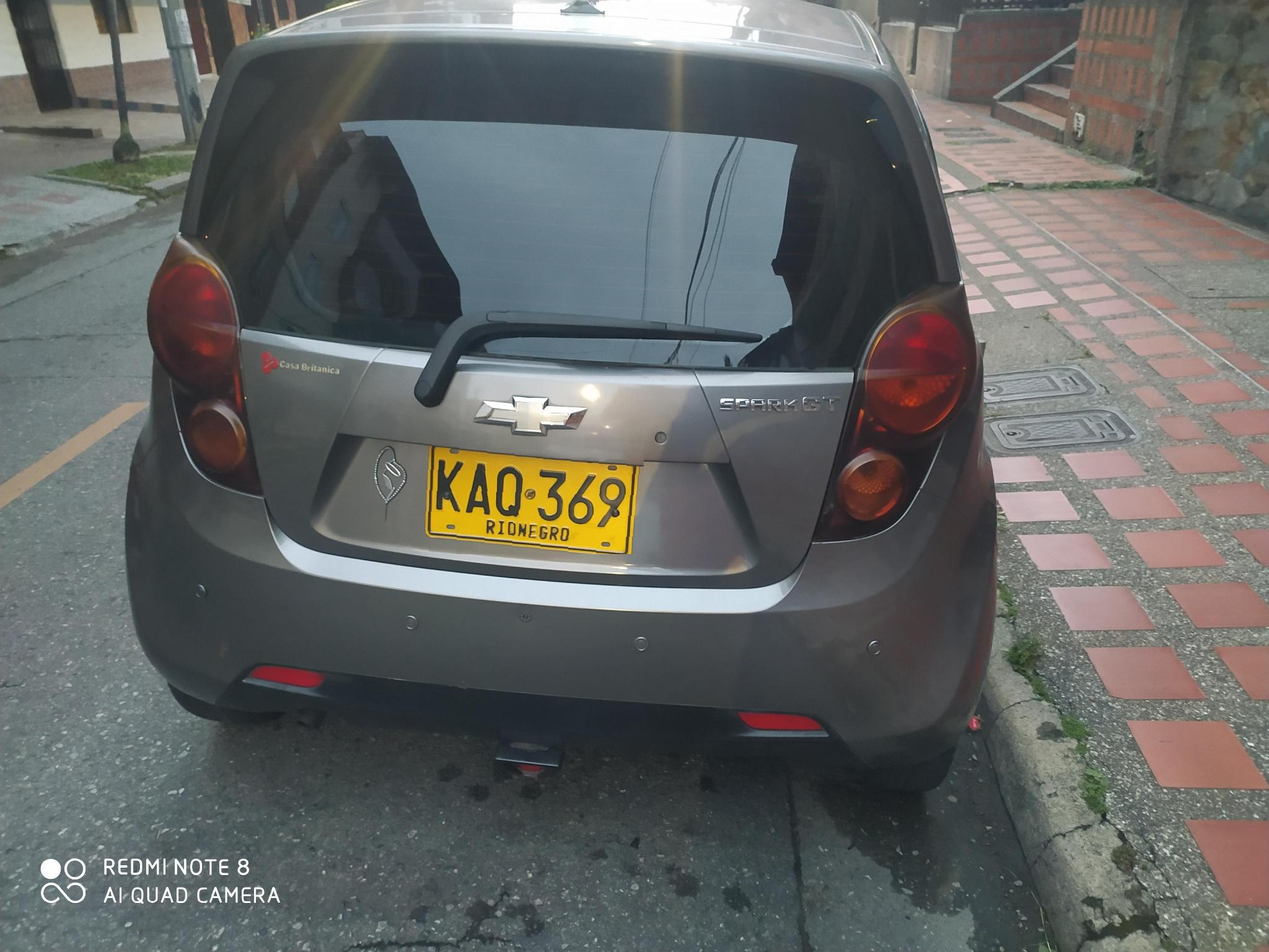placa: (418, 438, 644, 554)
